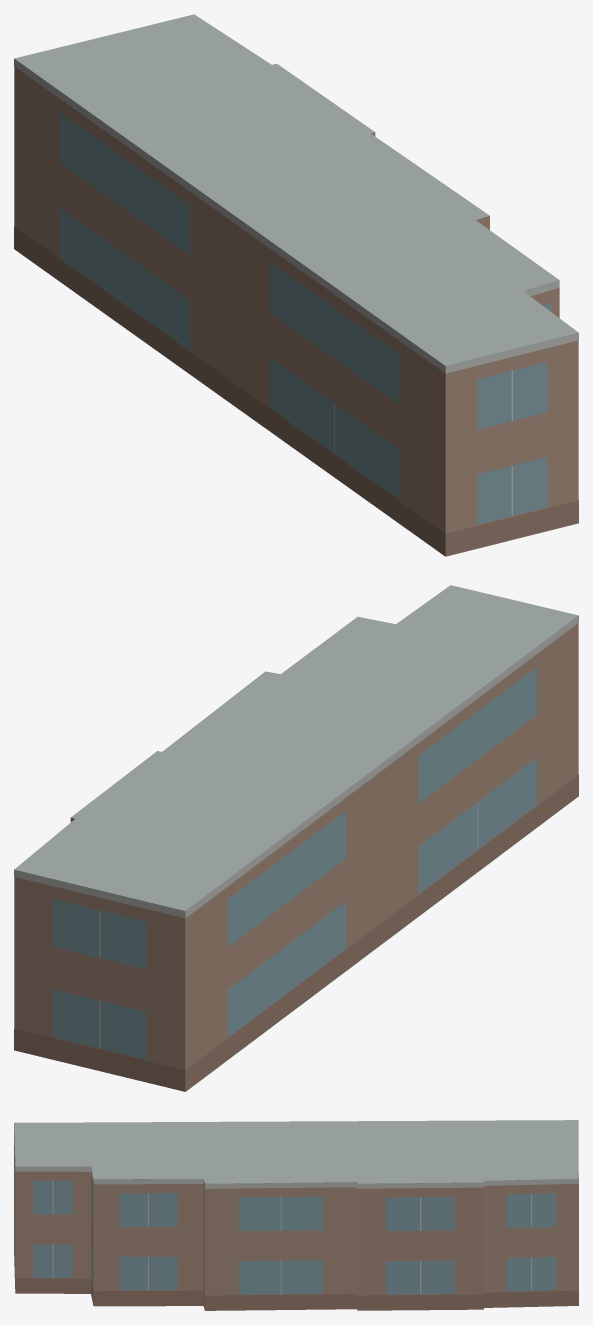
Rendered from survey-upis-32650029.glb.
3 views of the same model, one above another, from view 1: azimuth 30°, elevation 25°; view 2: azimuth 150°, elevation 25°; view 3: azimuth 270°, elevation 25° (orthographic). The views are drawn at different scales.
Parts seen in each view (by area): view 1: survey-upis-32650029.tmp; view 2: survey-upis-32650029.tmp; view 3: survey-upis-32650029.tmp.
Part boxes in pixels (<box>): survey-upis-32650029.tmp: <box>14,14,578,556</box>; survey-upis-32650029.tmp: <box>14,585,578,1091</box>; survey-upis-32650029.tmp: <box>14,1120,578,1310</box>.
Size of the model in its own units: 6.57 by 6.1 by 24.58.
